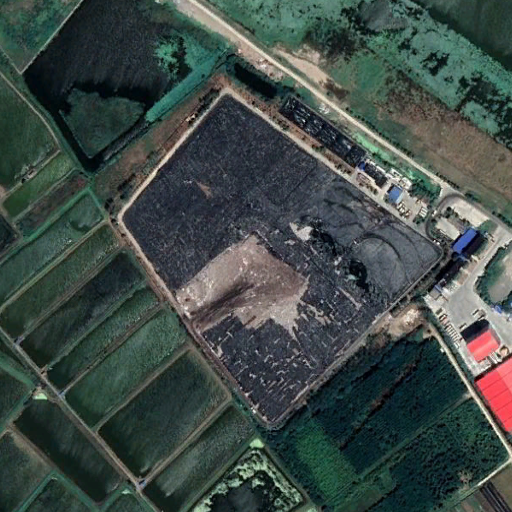lf: (116, 85, 441, 429)
